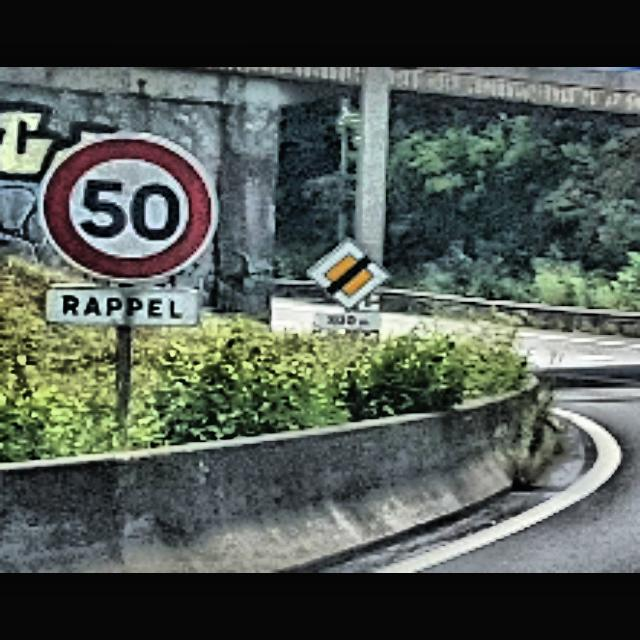speed_50: (36, 127, 220, 285)
